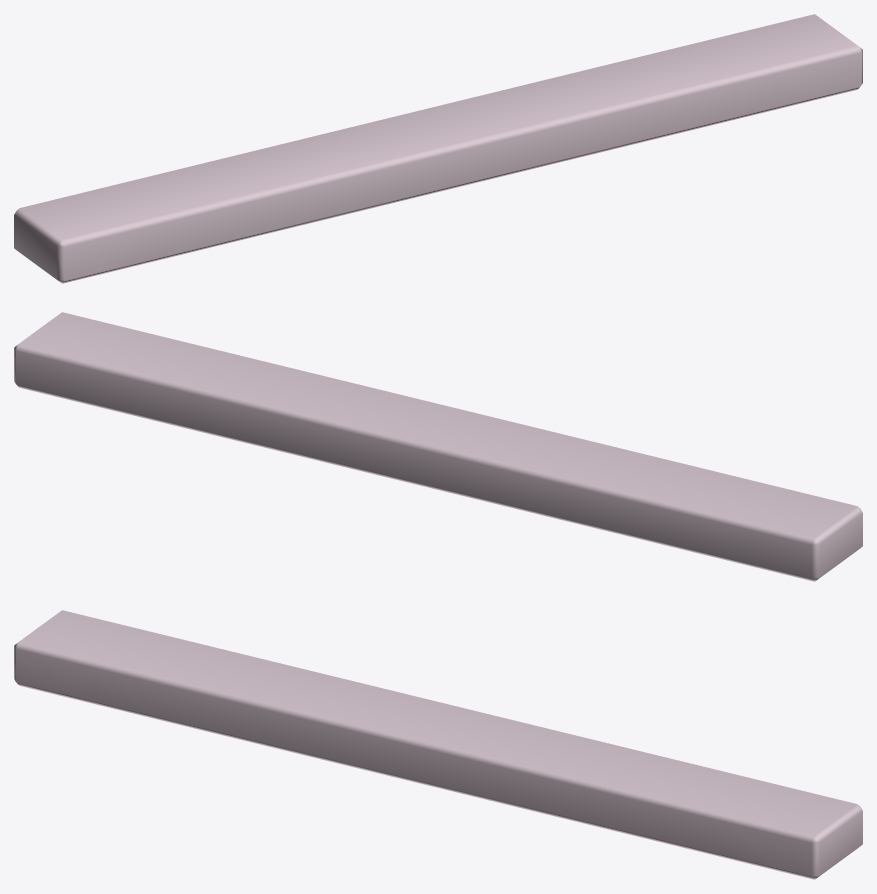
The model's file is mod_sc_roma_001_ar05_prop_007.fbx.
3 views of the same model, one above another, from view 1: azimuth 30°, elevation 25°; view 2: azimuth 150°, elevation 25°; view 3: azimuth 330°, elevation 25° (orthographic).
Visible parts, largest first — view 1: mod_sc_roma_001_ar05_prop_007; view 2: mod_sc_roma_001_ar05_prop_007; view 3: mod_sc_roma_001_ar05_prop_007.
Boxes of the visible parts, x1=… form: mod_sc_roma_001_ar05_prop_007: x1=14, y1=14, x2=862, y2=283; mod_sc_roma_001_ar05_prop_007: x1=14, y1=312, x2=862, y2=581; mod_sc_roma_001_ar05_prop_007: x1=14, y1=610, x2=862, y2=879.
Size of what is drawn, in the model's own units: 760 by 39.94 by 80.
